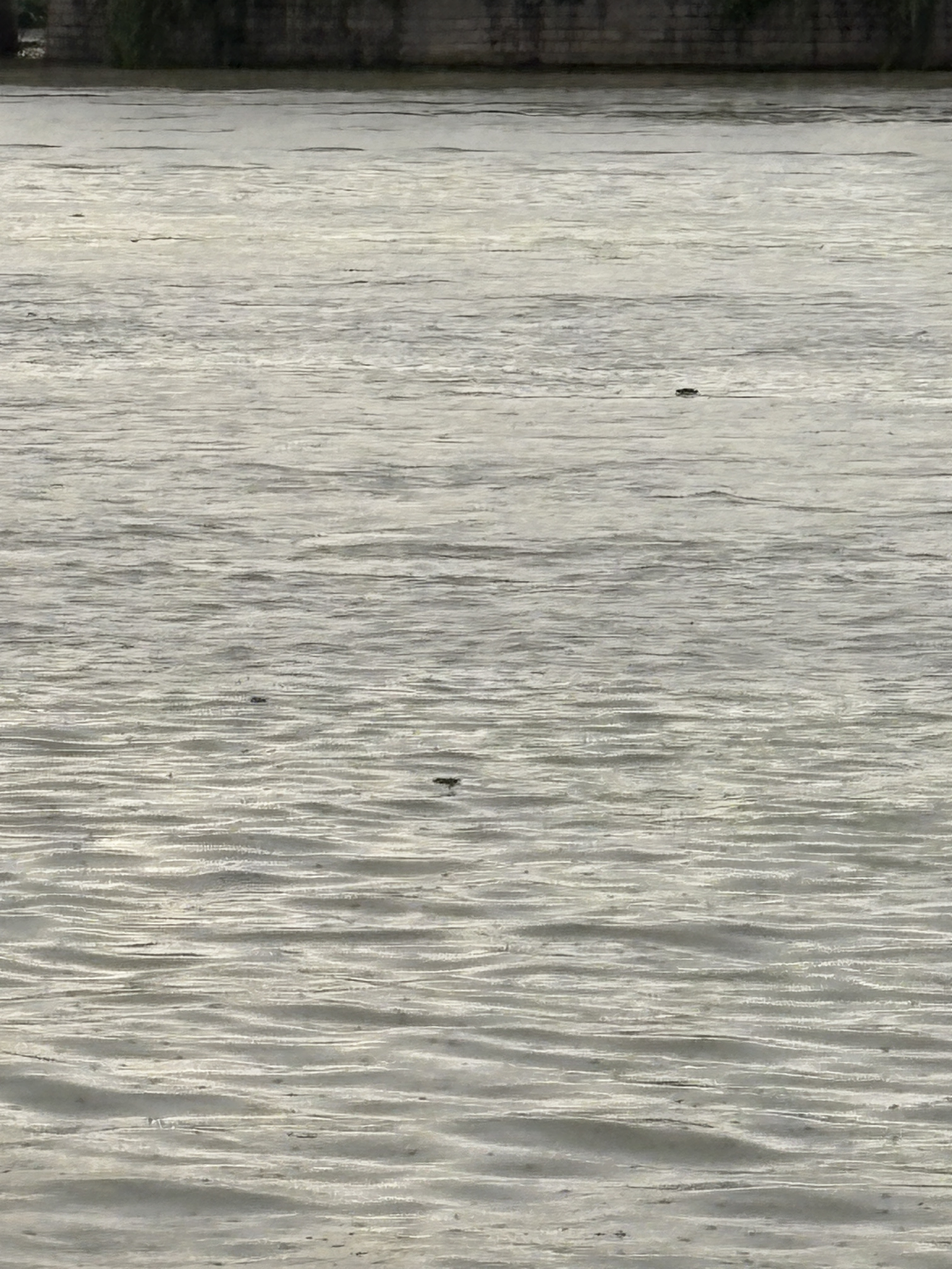Natural wastes: (581, 656, 593, 694), (287, 338, 300, 370), (516, 914, 531, 940)
